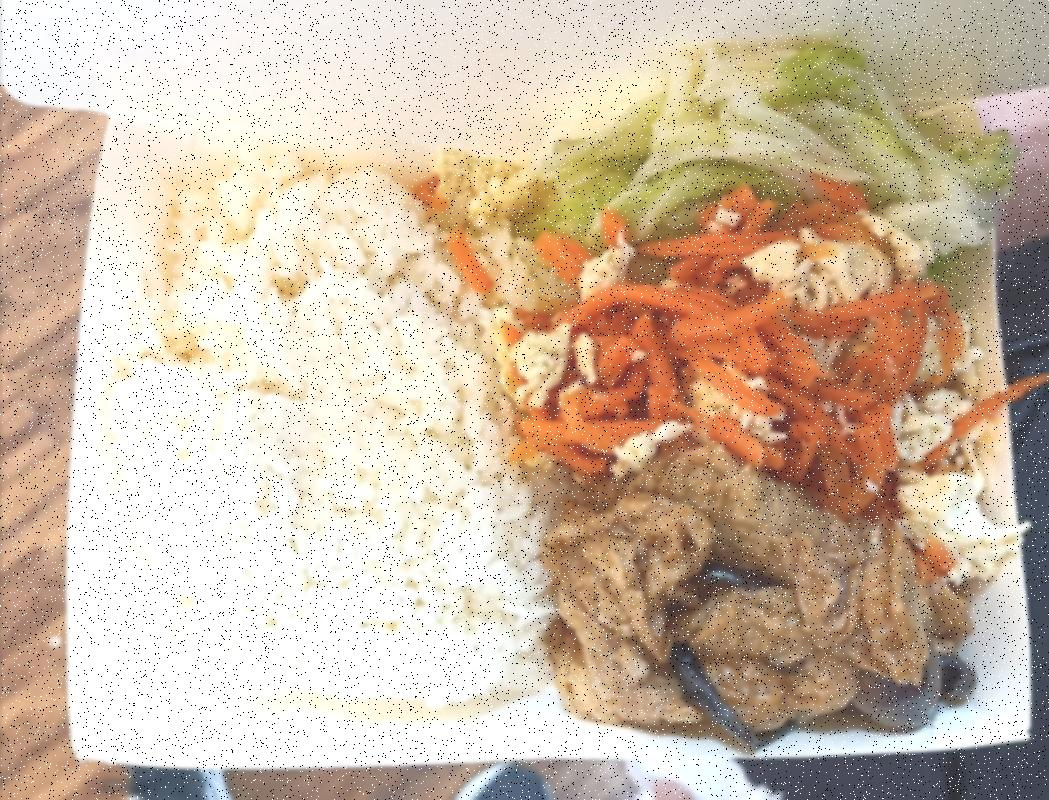box: (35, 95, 1049, 770)
side dish: (497, 192, 1003, 486), (558, 456, 984, 735), (529, 29, 1015, 247)
white rice: (97, 150, 560, 718)
